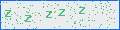z: (78, 7, 86, 15), (24, 15, 31, 22), (5, 10, 11, 17), (46, 11, 51, 18), (59, 9, 64, 16)
